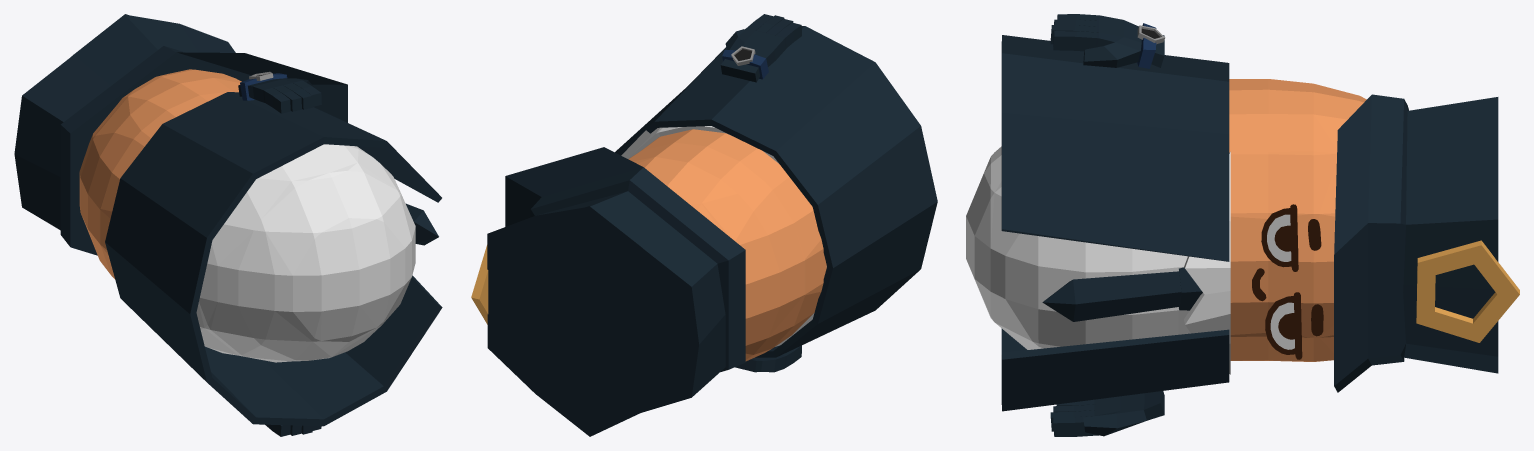
File: Potato1rotated3 (1).fbx
The picture shows the model from 3 angles, left to right: view 1: azimuth 30°, elevation 25°; view 2: azimuth 150°, elevation 25°; view 3: azimuth 270°, elevation 25°; orthographic projection. The views are drawn at different scales.
Visible parts, largest first — view 1: Cylinder.002, Mball.001, Cylinder, Potato, Cube, Cylinder.001, Cube.001; view 2: Cylinder, Cylinder.002, Potato, Cube, Cube.001, Cylinder.004, Mball.001; view 3: Cylinder.002, Cylinder, Potato, Mball.001, Cylinder.001, Cylinder.004, Plane, Cube, Cube.001, Cylinder.003.
Part boxes in pixels (x1,y1,x2,y2): Cylinder.002: (105,92,442,426); Mball.001: (196,144,415,362); Cylinder: (14,14,347,255); Potato: (79,69,241,278); Cube: (238,73,321,113); Cylinder.001: (406,203,438,245); Cube.001: (265,424,321,436); Cylinder: (487,147,745,436); Cylinder.002: (615,26,937,357); Potato: (628,129,826,361); Cube: (720,14,801,82); Cube.001: (735,345,801,372); Cylinder.004: (471,245,488,324); Mball.001: (628,126,826,346); Cylinder.002: (1001,35,1229,411); Cylinder: (1334,94,1498,392); Potato: (1229,79,1366,361); Mball.001: (966,146,1190,349); Cylinder.001: (1042,267,1202,321); Cylinder.004: (1416,240,1519,342); Plane: (1252,204,1323,359); Cube: (1050,14,1164,68); Cube.001: (1050,391,1164,436); Cylinder.003: (1184,151,1230,374).
Bounding box in the file's own units: 360 × 389 × 487.
